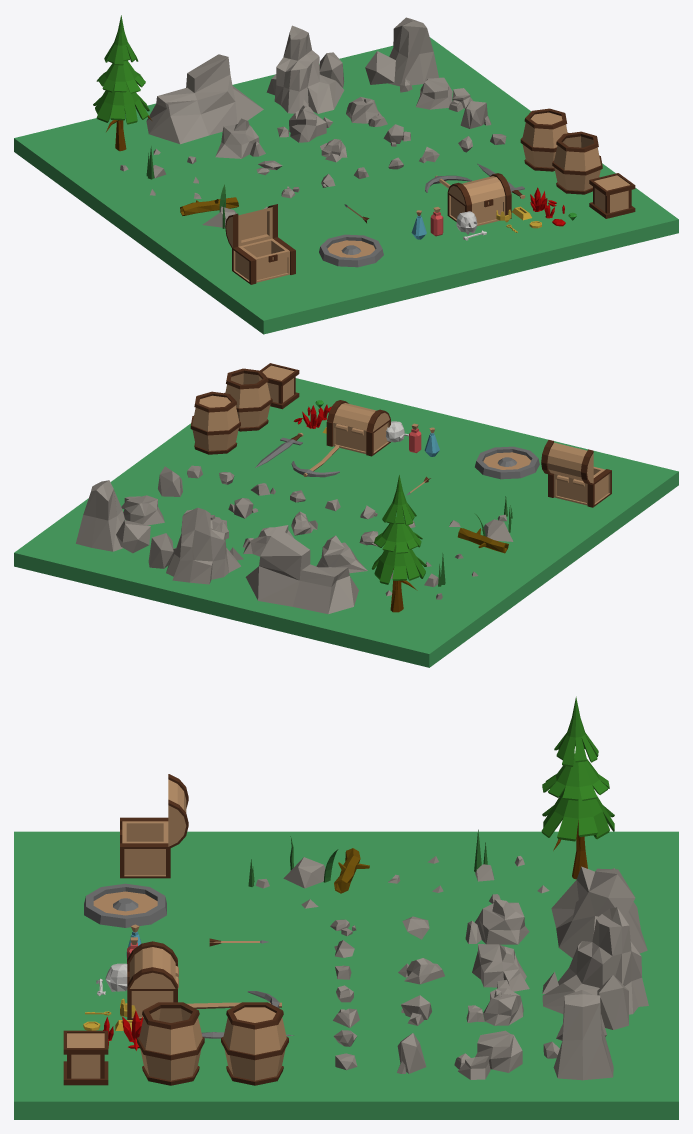
File: stones_and_treasure.dae
3 views of the same model, one above another, from view 1: azimuth 30°, elevation 25°; view 2: azimuth 150°, elevation 25°; view 3: azimuth 270°, elevation 25° (orthographic). The views are drawn at different scales.
Visible parts, largest first — view 1: Ground, Stone_1, Stone_2, Tree_Fir, Stone_3, Barrel_Ope, Chest_Clos, Chest_Ope0, Barrel_Clo, Shield, Chest_Open, Box (+7 smaller); view 2: Ground, Stone_1, Stone_2, Tree_Fir, Stone_3, Chest_Clos, Barrel_Clo, Barrel_Ope, Shield, Chest_Ope0, Chest_Open, Rocks_and0 (+5 smaller); view 3: Ground, Stone_2, Tree_Fir, Stone_1, Barrel_Clo, Barrel_Ope, Stone_3, Chest_Clos, Chest_Ope0, Shield, Box, Rocks_and0 (+9 smaller).
Part boxes in pixels (x1,y1,x2,y2): Ground: (14, 37, 678, 334); Stone_1: (146, 54, 263, 144); Stone_2: (266, 25, 344, 113); Tree_Fir: (93, 15, 151, 151); Stone_3: (365, 17, 438, 92); Barrel_Ope: (552, 131, 602, 194); Chest_Clos: (447, 173, 511, 226); Chest_Ope0: (232, 237, 295, 284); Barrel_Clo: (520, 108, 568, 171); Shield: (319, 234, 383, 267); Chest_Open: (225, 204, 277, 247); Box: (589, 173, 635, 218); Ground: (14, 378, 678, 667); Stone_1: (245, 527, 358, 614); Stone_2: (148, 507, 243, 584); Tree_Fir: (371, 475, 426, 612); Stone_3: (76, 480, 150, 553); Chest_Clos: (326, 400, 390, 456); Barrel_Clo: (190, 391, 240, 454); Barrel_Ope: (224, 368, 272, 431); Shield: (475, 446, 539, 479); Chest_Ope0: (548, 467, 611, 507); Chest_Open: (541, 440, 593, 484); Rocks_and0: (449, 496, 513, 558); Ground: (14, 831, 678, 1119); Stone_2: (542, 907, 648, 1029); Tree_Fir: (541, 696, 614, 879); Stone_1: (551, 866, 647, 958); Barrel_Clo: (221, 1002, 288, 1085); Barrel_Ope: (137, 1002, 204, 1085); Stone_3: (543, 990, 613, 1080); Chest_Clos: (127, 941, 178, 1019); Chest_Ope0: (120, 817, 170, 878); Shield: (84, 883, 166, 927); Box: (63, 1030, 108, 1085); Rocks_and0: (248, 836, 400, 908).
Bounding box in the file's own units: 2.18 × 2.27 × 0.7473.
